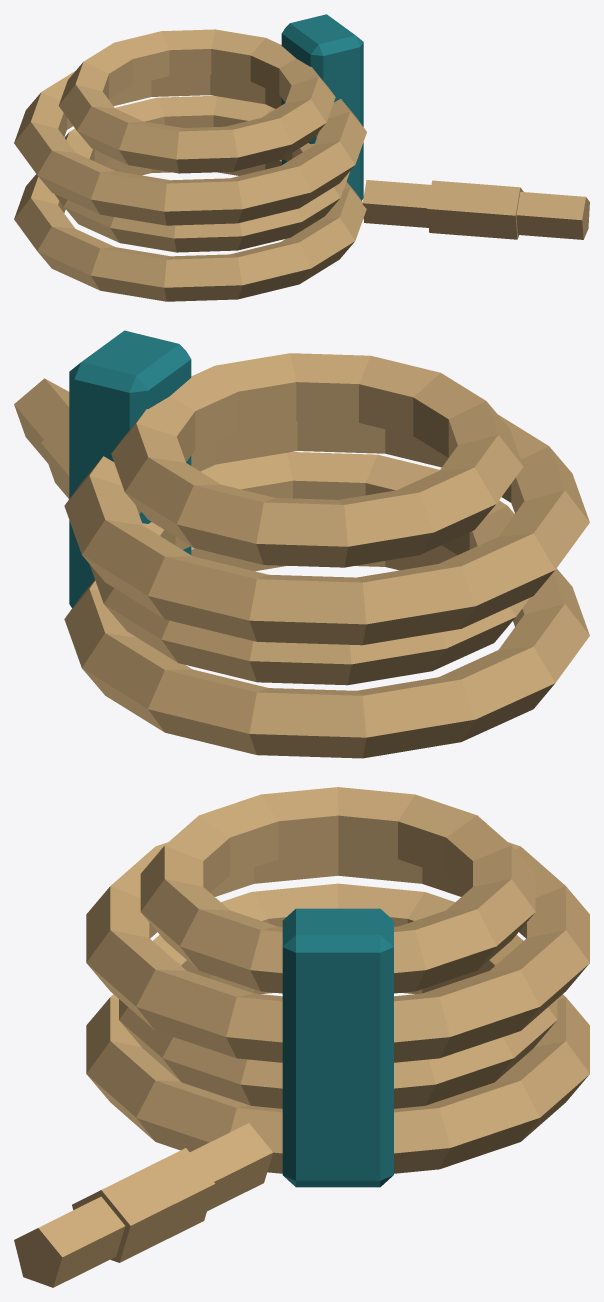
The model's file is coiled_rope.glb.
3 renders of one model, top to bottom at view 1: azimuth 30°, elevation 25°; view 2: azimuth 150°, elevation 25°; view 3: azimuth 270°, elevation 25°, orthographic. The views are drawn at different scales.
Visible parts, largest first — view 1: coiled_rope; view 2: coiled_rope; view 3: coiled_rope.
Part boxes in pixels (bbox=[...]): coiled_rope: bbox=[14, 14, 589, 301]; coiled_rope: bbox=[14, 330, 589, 758]; coiled_rope: bbox=[14, 787, 589, 1287].
Size of the model in its own units: 0.6933 by 0.2504 by 0.5174.
